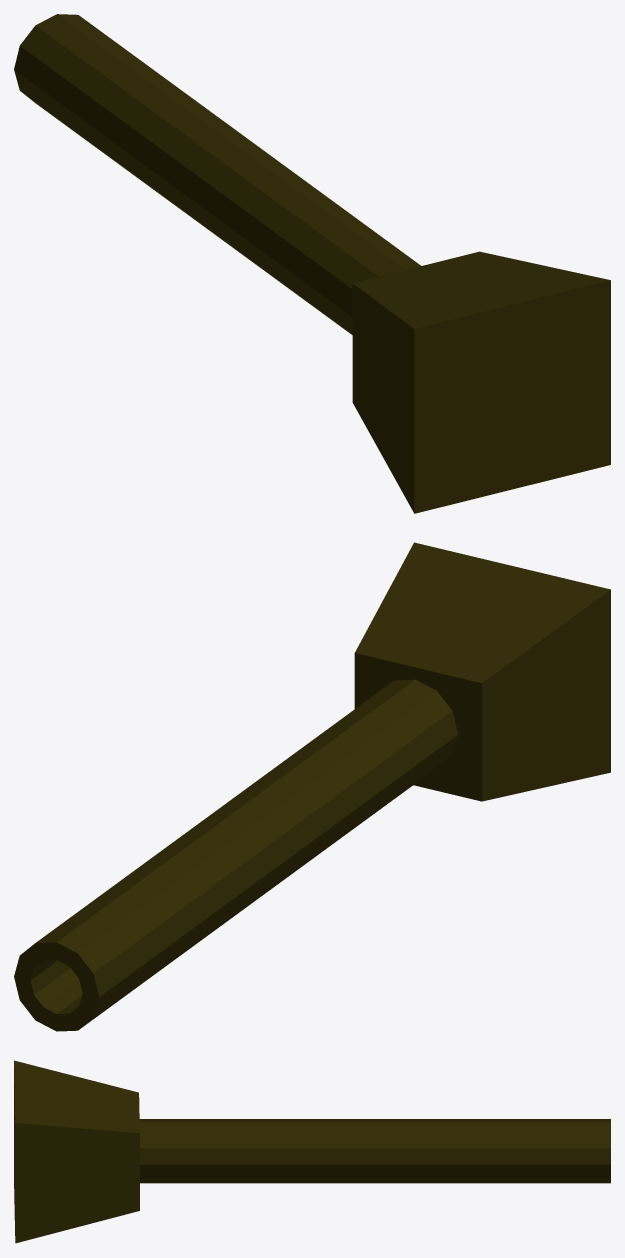
File: HeavyGun.fbx
3 views of the same model, one above another, from view 1: azimuth 30°, elevation 25°; view 2: azimuth 150°, elevation 25°; view 3: azimuth 270°, elevation 25° (orthographic). The views are drawn at different scales.
Parts seen in each view (by area): view 1: Heavy Gun; view 2: Heavy Gun; view 3: Heavy Gun.
Part boxes in pixels (x1,y1,x2,y2): Heavy Gun: [14, 14, 610, 513]; Heavy Gun: [14, 542, 610, 1031]; Heavy Gun: [14, 1060, 610, 1243].
Size of the model in its own units: 0.2889 by 0.2581 by 1.16.
